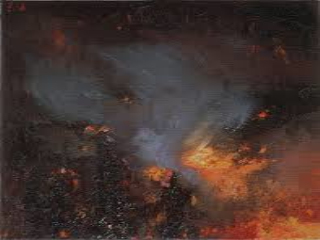fire: (176, 134, 272, 197)
smoke: (105, 46, 175, 163)
